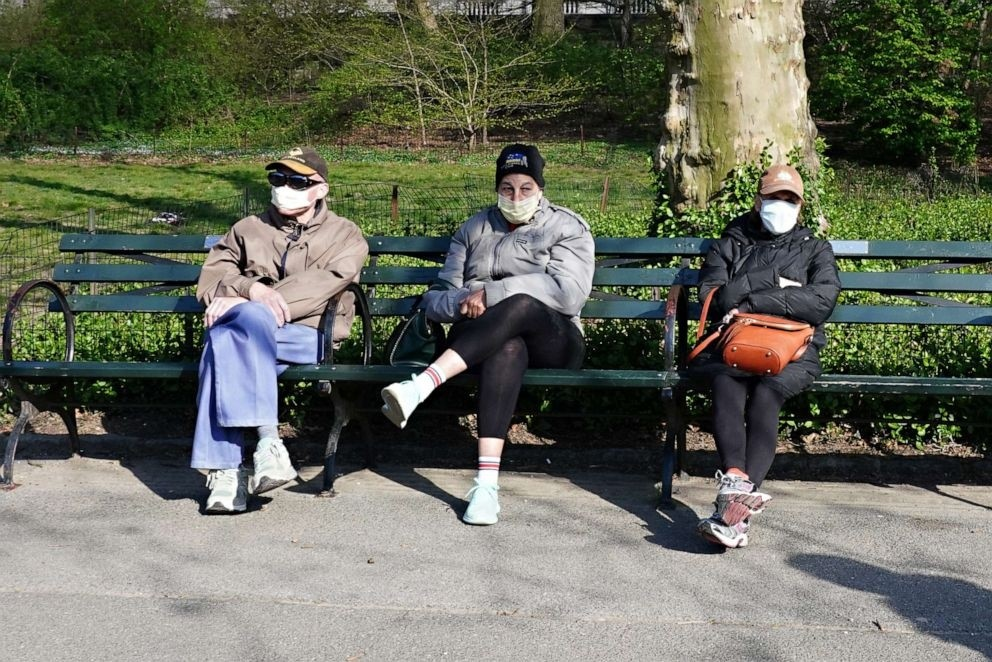face_with_mask: (262, 142, 330, 229), (489, 141, 547, 232), (747, 163, 810, 242)
